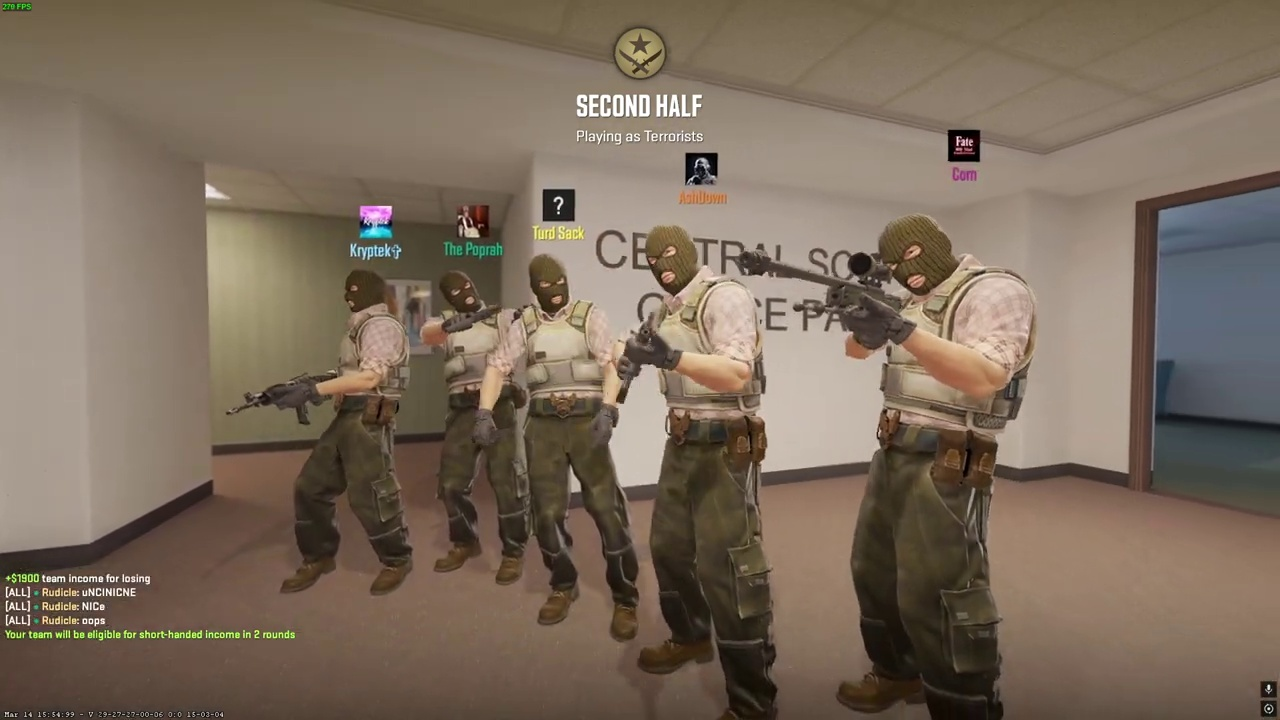Terrorist: (826, 213, 1037, 720), (620, 224, 779, 720), (506, 253, 640, 641), (280, 269, 413, 596), (420, 271, 531, 585)
